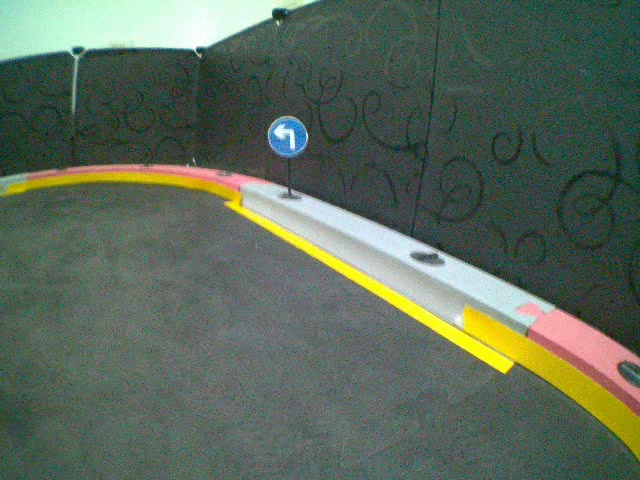turn: (266, 115, 310, 159)
